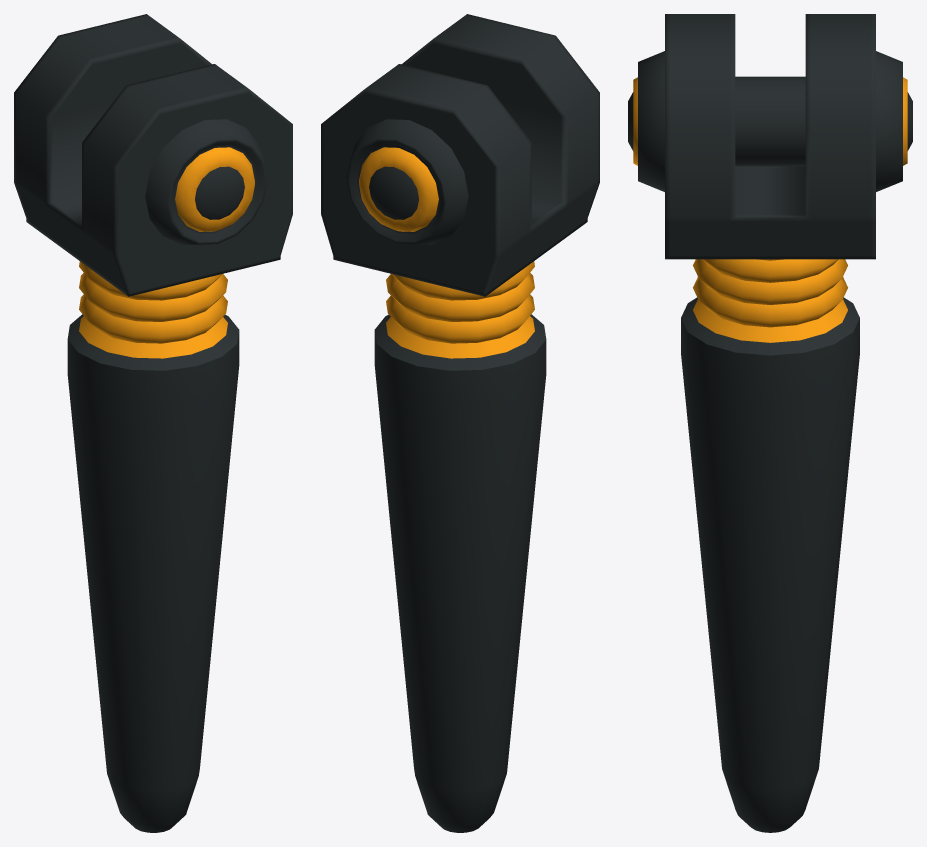
File: Straw_Dog_4_left_feet.obj
3 views of the same model, side by side, from view 1: azimuth 30°, elevation 25°; view 2: azimuth 150°, elevation 25°; view 3: azimuth 270°, elevation 25° (orthographic). The views are drawn at different scales.
Parts seen in each view (by area): view 1: left_feet_Cube.007; view 2: left_feet_Cube.007; view 3: left_feet_Cube.007.
Boxes of the visible parts, x1,y1,x2,y2 form: left_feet_Cube.007: (14,14,292,832); left_feet_Cube.007: (321,14,599,832); left_feet_Cube.007: (628,14,912,832).
Bounding box in the file's own units: 0.9609 × 3.96 × 1.3.
